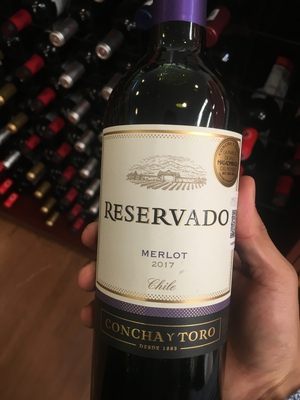reservado merlot: (90, 21, 261, 387)
